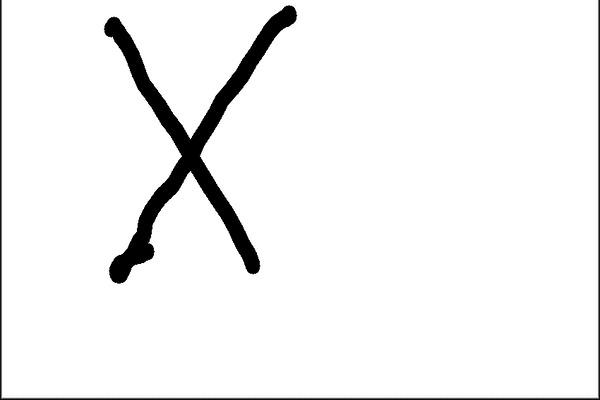X: (85, 3, 307, 297)
